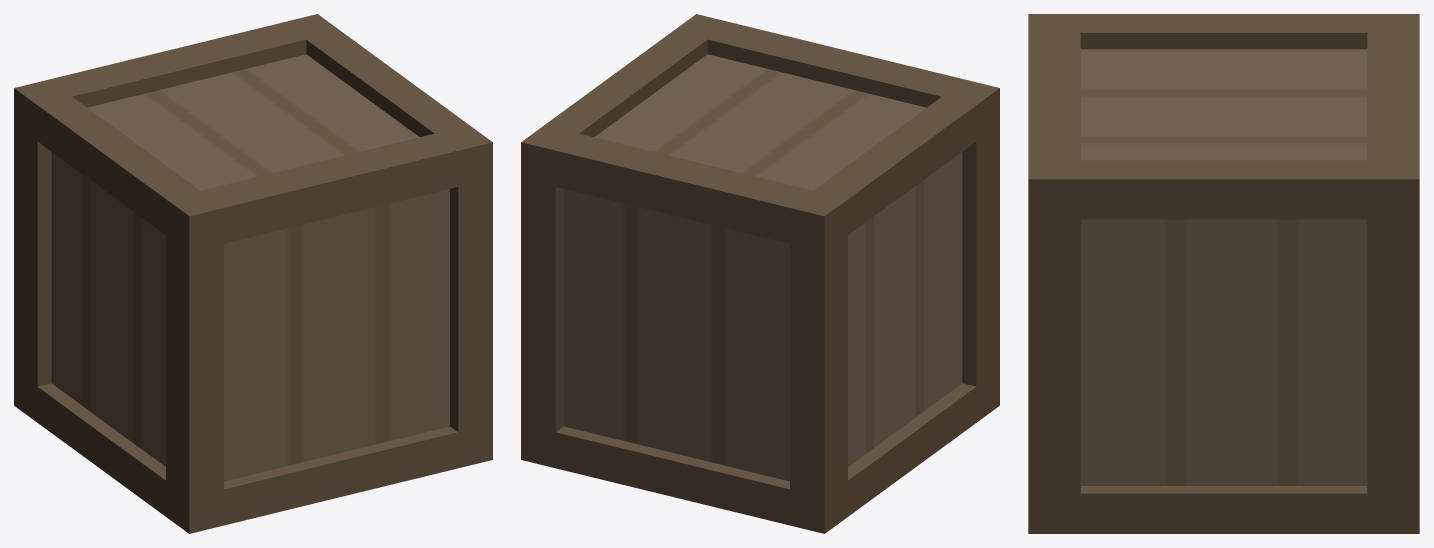
Rendered from SD_Prop_Crate_01.fbx.
The picture shows the model from 3 angles, left to right: view 1: azimuth 30°, elevation 25°; view 2: azimuth 150°, elevation 25°; view 3: azimuth 270°, elevation 25°; orthographic projection. The views are drawn at different scales.
Visible parts, largest first — view 1: SD_Prop_Crate_01; view 2: SD_Prop_Crate_01; view 3: SD_Prop_Crate_01.
Part boxes in pixels (box(x1,y1,x2,y2)): SD_Prop_Crate_01: box(14, 14, 492, 533); SD_Prop_Crate_01: box(521, 14, 999, 533); SD_Prop_Crate_01: box(1028, 14, 1419, 533).
Bounding box in the file's own units: 1.1 × 1.1 × 1.1.
